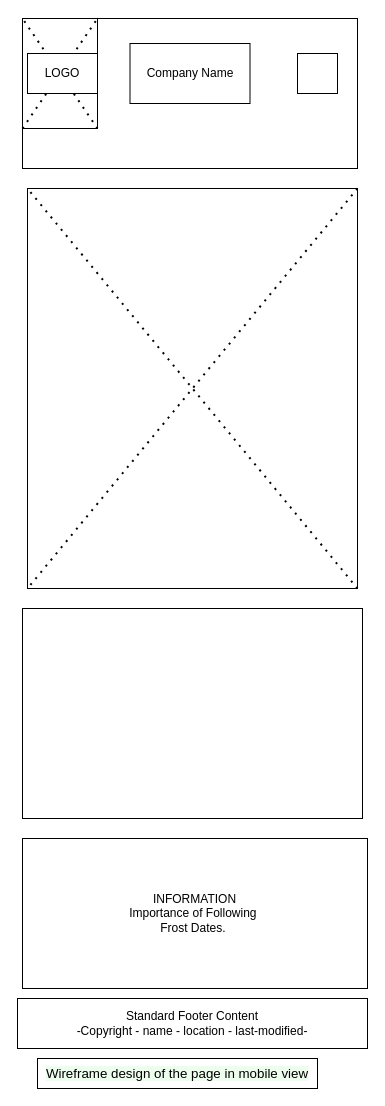
The diagram is 385 pixels wide and 1106 high, and some of its shapes have lost their labels. The shapes that lost their labels are listed below. From the top down, each one's centre as x and y in pixels, then its label:
At [317,73]: "menu".
At [192,388]: "IMAGE".
At [192,713]: "INFORMATION Cool weather plants vs. Warm weather plants".
